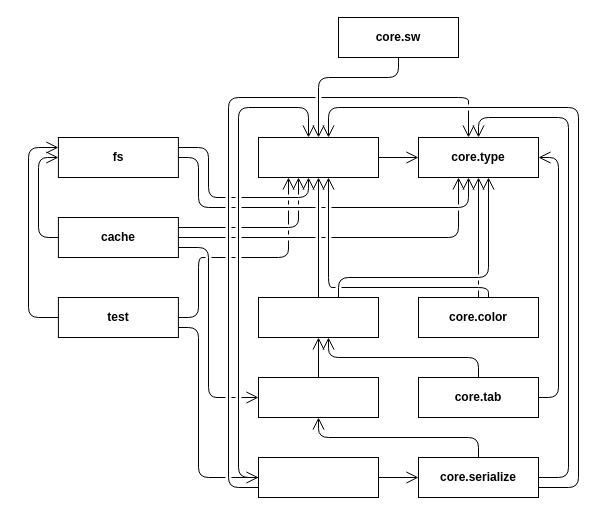
The diagram is 608 pixels wide and 517 high, and some of its shapes have lost their labels. The centre of each missing label's shape, as x and y in pixels:
core.assert: the point at 318,157
core.fn: the point at 318,317
core.stats: the point at 318,477
core.str: the point at 318,397
